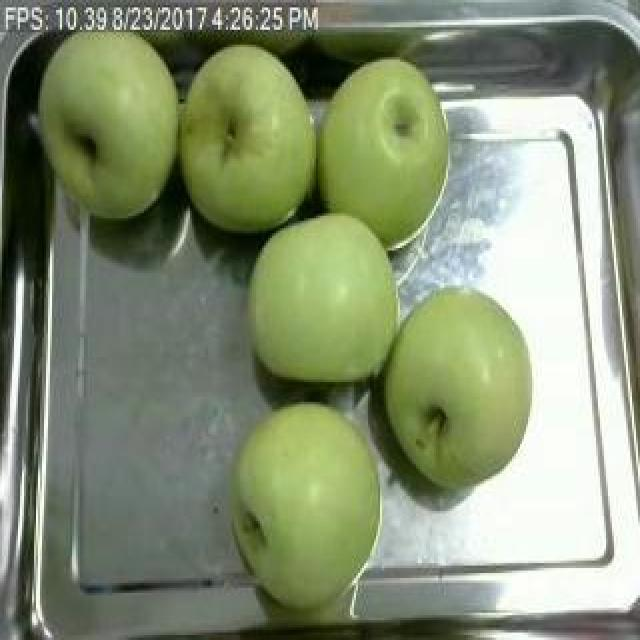Rotten Apple: (197, 394, 421, 616), (363, 264, 523, 507), (236, 210, 400, 403), (40, 23, 184, 237), (320, 51, 460, 242), (189, 37, 311, 231)
